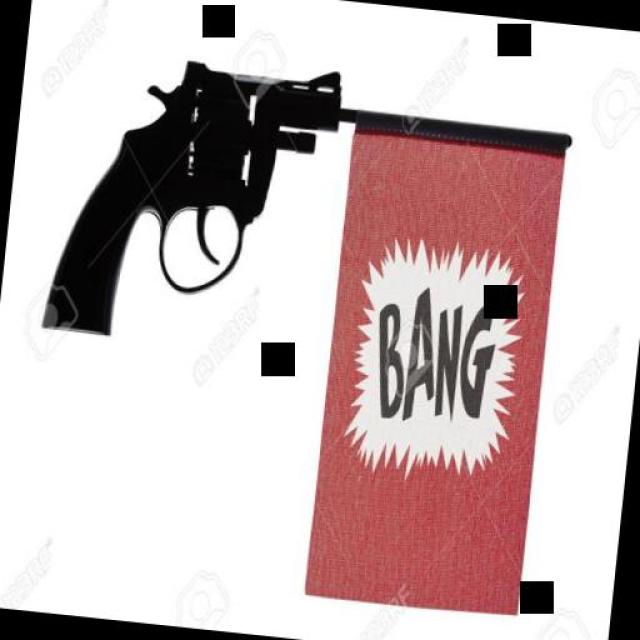gun: (38, 39, 344, 359)
